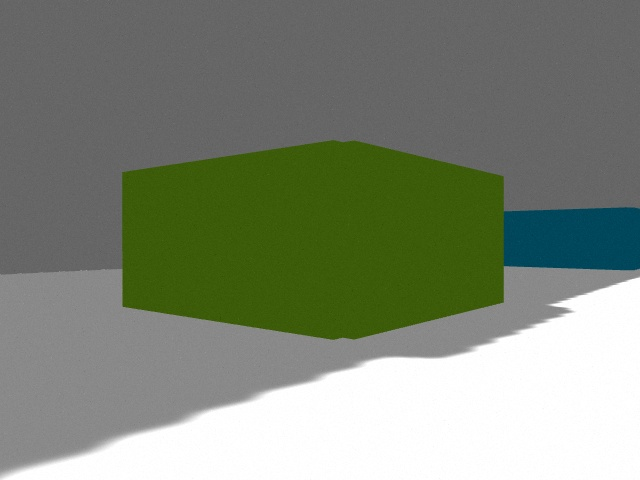blue_drop_zone: (504, 207, 640, 270)
green_drop_zone: (122, 140, 504, 340)
